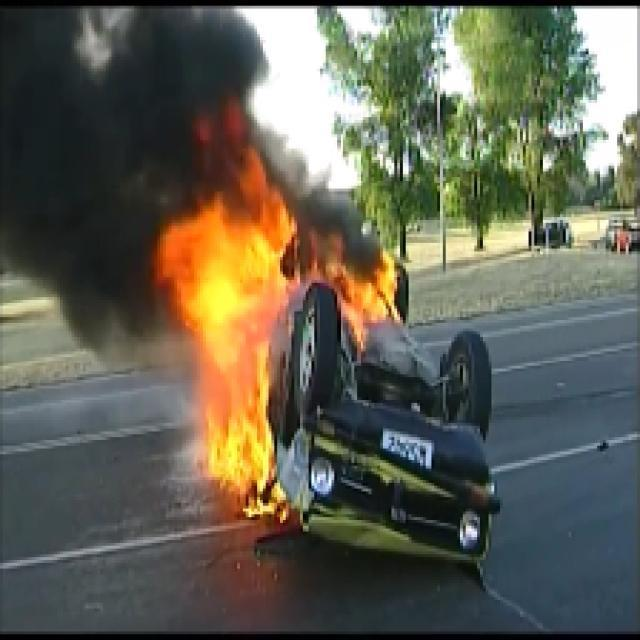Fire: (154, 197, 289, 523), (326, 257, 398, 317)
Smoke: (3, 3, 174, 323)
